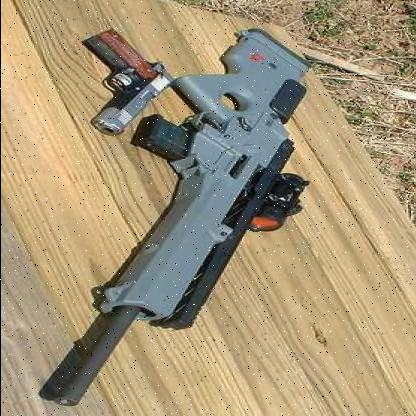rifle: (42, 29, 340, 409)
